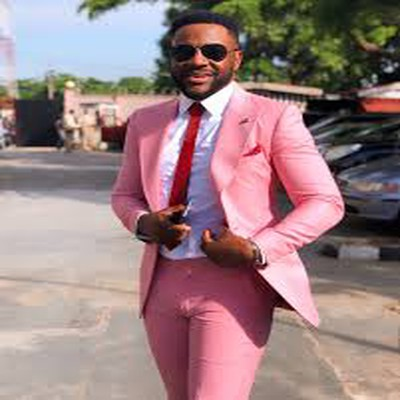eywear: (145, 30, 242, 72)
